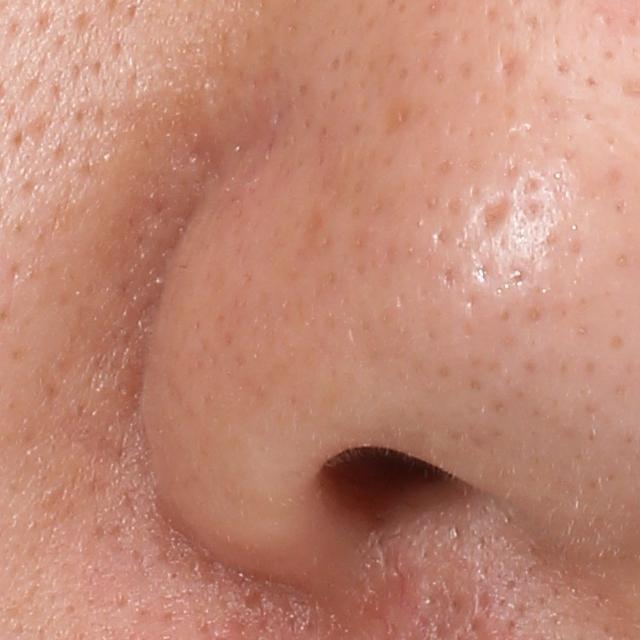atrophic_scar: (474, 192, 514, 237), (497, 52, 531, 89)
